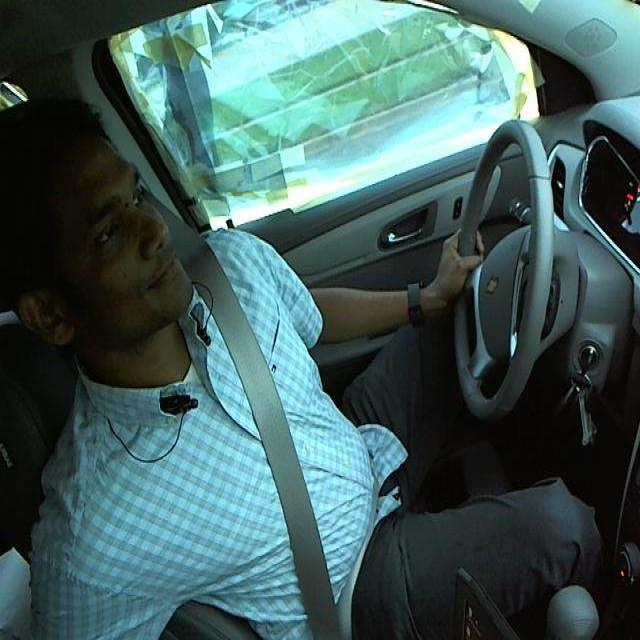seatbelt: (198, 288, 366, 628)
